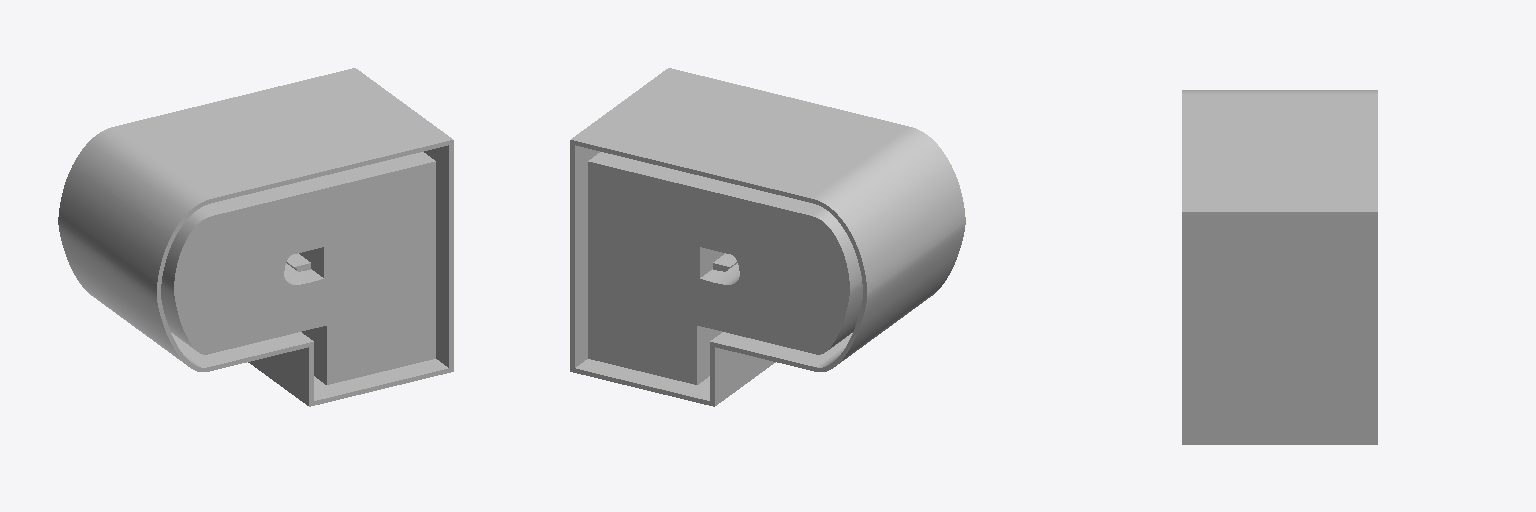
3 renders of one model, left to right at view 1: azimuth 30°, elevation 25°; view 2: azimuth 150°, elevation 25°; view 3: azimuth 270°, elevation 25°, orthographic.
Visible parts, largest first — view 1: Texto; view 2: Texto; view 3: Texto.
Boxes of the visible parts, <box> form: Texto: <box>58,68,453,406</box>; Texto: <box>570,68,965,406</box>; Texto: <box>1182,90,1377,444</box>.
Size of the model in its own units: 10.47 by 7.82 by 6.